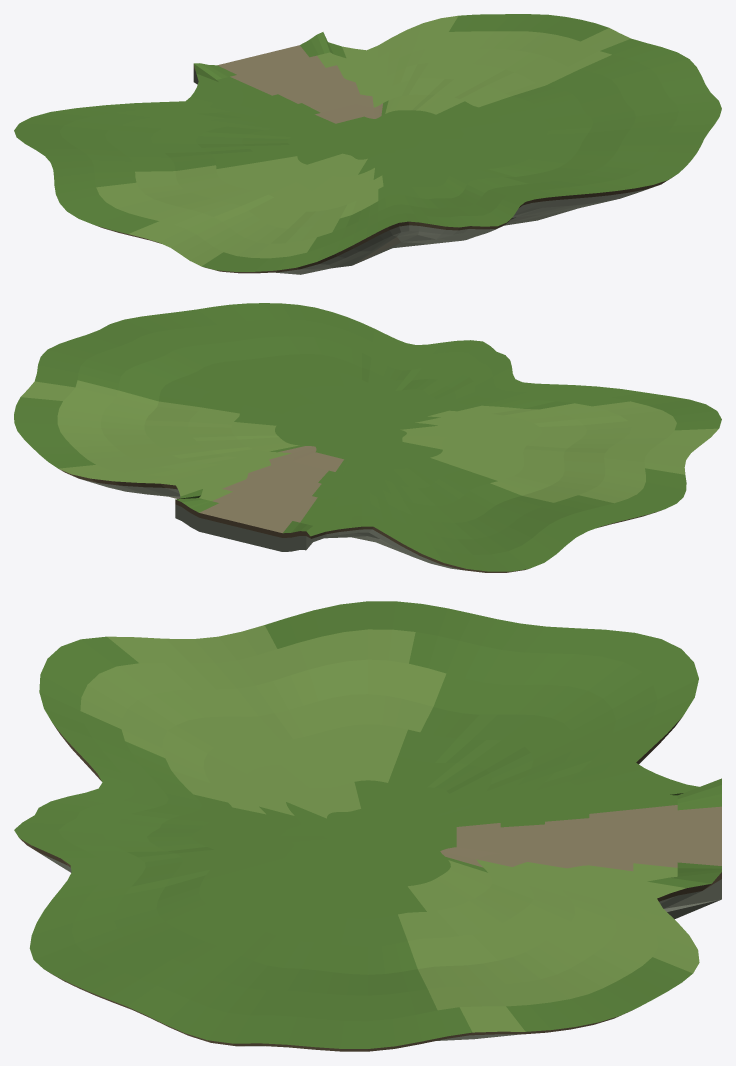
File: boss_sanctuary_structure.fbx
3 renders of one model, top to bottom at view 1: azimuth 30°, elevation 25°; view 2: azimuth 150°, elevation 25°; view 3: azimuth 270°, elevation 25°, orthographic. The views are drawn at different scales.
Parts seen in each view (by area): view 1: chunk_boss_sanctuary; view 2: chunk_boss_sanctuary; view 3: chunk_boss_sanctuary.
Part boxes in pixels (box(x1,y1,x2,y2)): chunk_boss_sanctuary: box(14, 14, 721, 274); chunk_boss_sanctuary: box(14, 303, 721, 572); chunk_boss_sanctuary: box(14, 601, 721, 1051).
Size of the model in its own units: 384 by 53.79 by 256.
